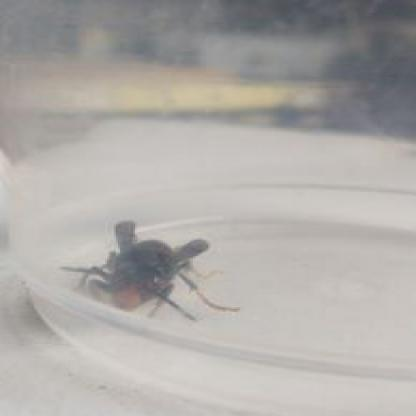Asian Hornet: (72, 225, 239, 319)
